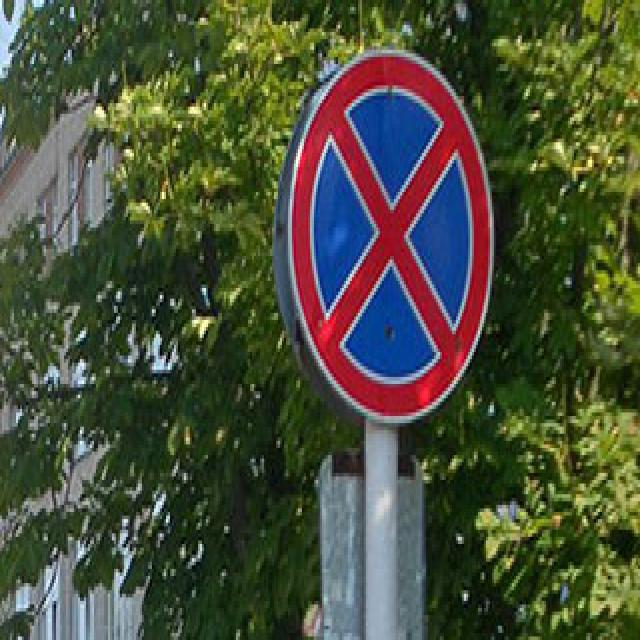no stopping: (279, 47, 498, 436)
